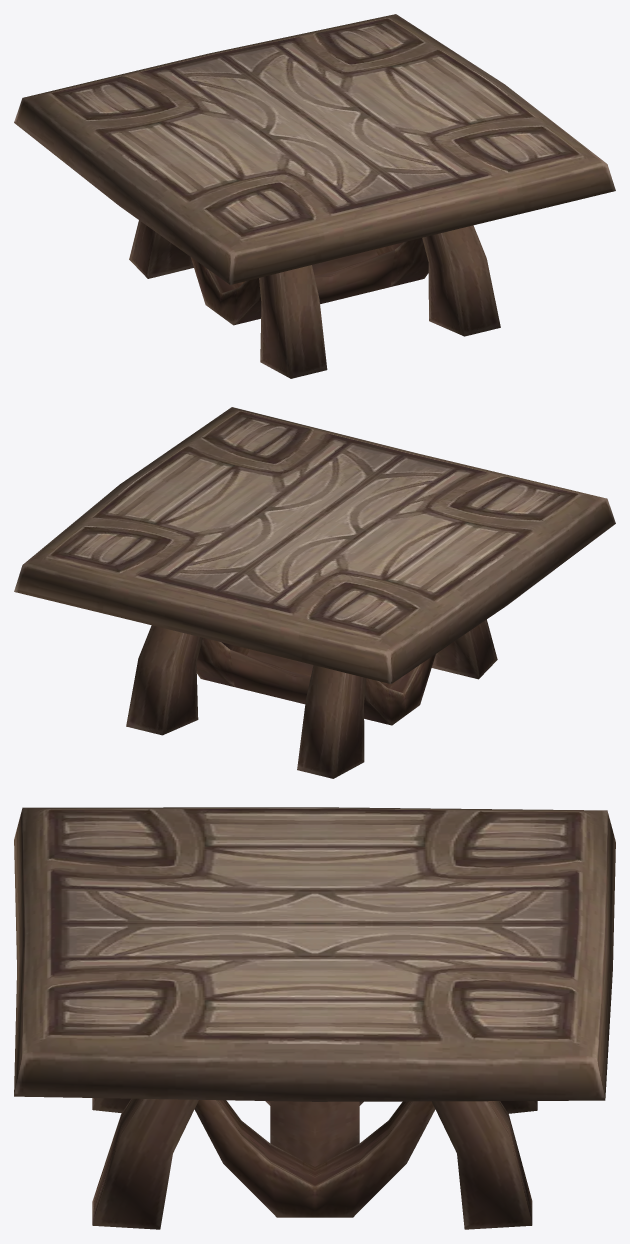
The picture shows the model from 3 angles, top to bottom: view 1: azimuth 30°, elevation 25°; view 2: azimuth 150°, elevation 25°; view 3: azimuth 270°, elevation 25°; orthographic projection. The views are drawn at different scales.
Size of the model in its own units: 3.18 by 1.32 by 3.1.
Materials: 1 (1 with a texture image).
